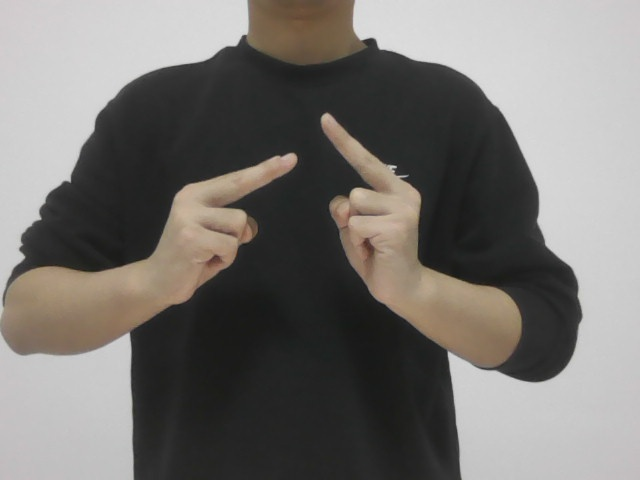know: (152, 121, 428, 327)
